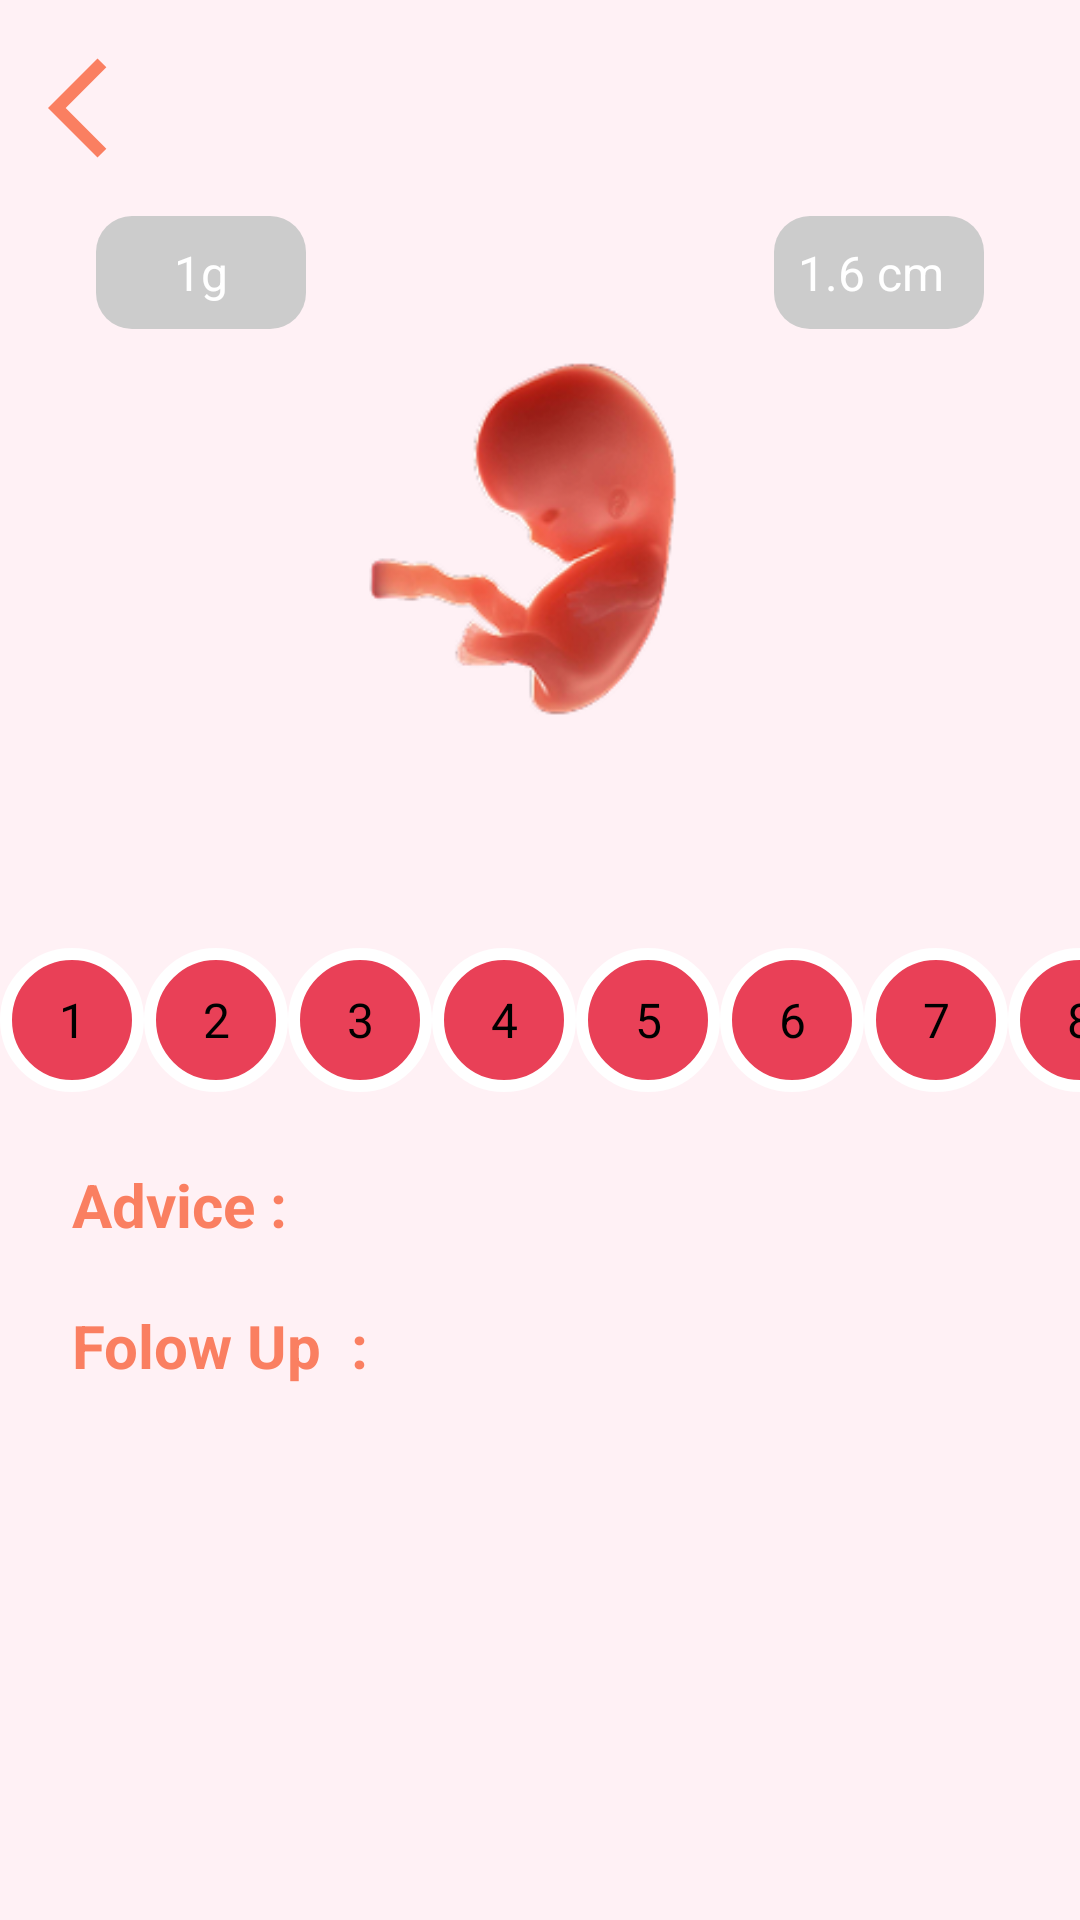

Where to tap for icons on this 1080x1920 app screen, as [x,y]:
arrow back: [77,108]
